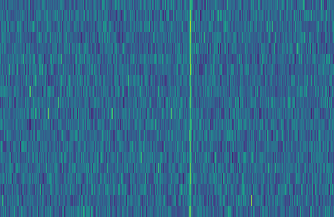signal: (185, 0, 194, 217)
